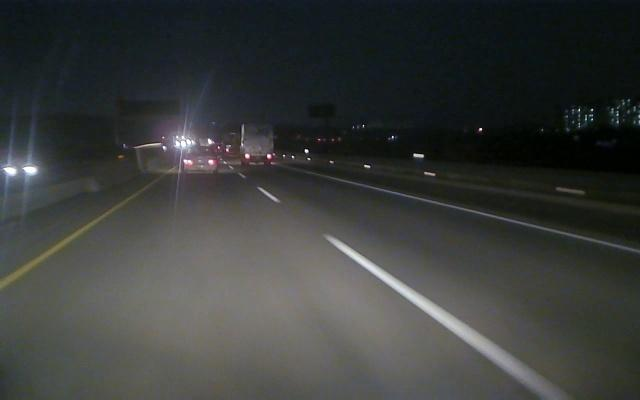lane: (255, 187, 575, 399), (331, 176, 640, 254), (1, 183, 155, 289)
